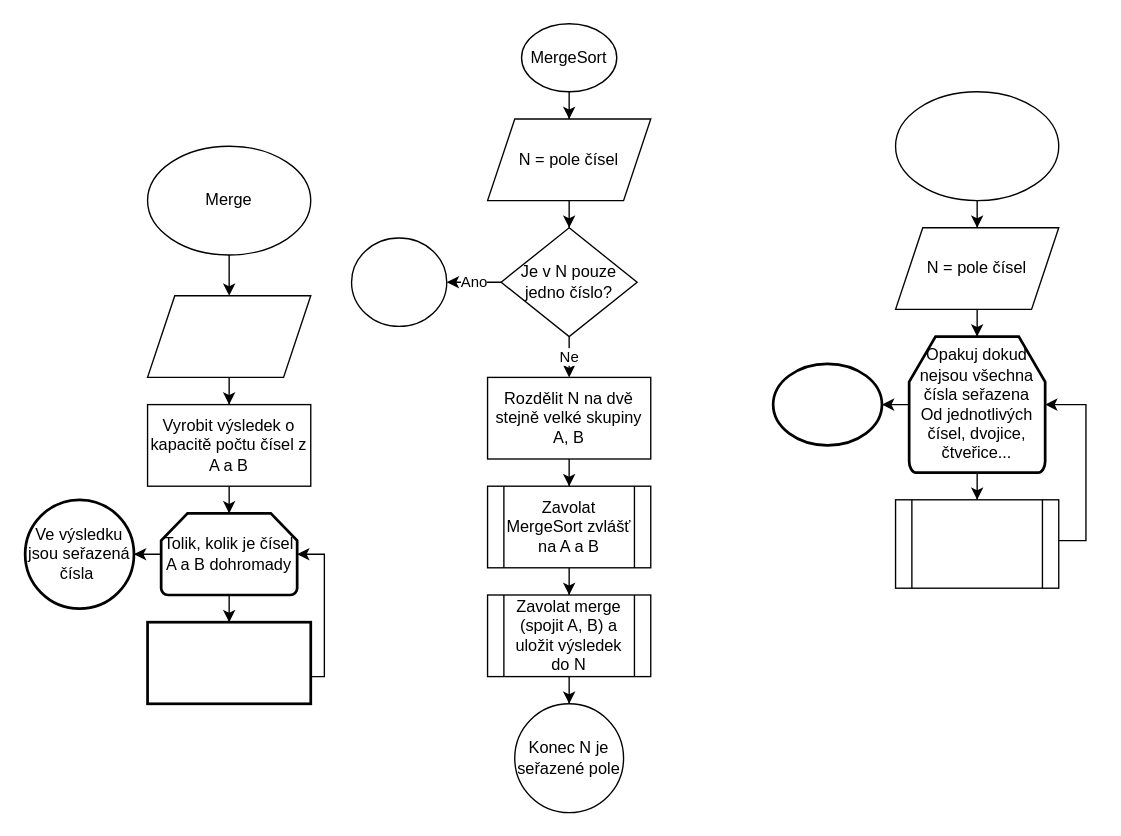
This 1121x836 diagram has some shape labels left out. The centre of each missing label's shape, as x and y in pixels:
A,B seřazené řady čísel: [228,335]
Konec (Seřazené čísla v N): [827,404]
Konec, N je seřazené: [398,281]
MergeSort Nepřehledně: [976,145]
Porovnat nejmenší nepoužitá čísla z A a z B. Zapíšu do výsledu menší z nich: [228,662]
Použijeme funkci merge na aktuálně seřazené skupiny: [976,543]
